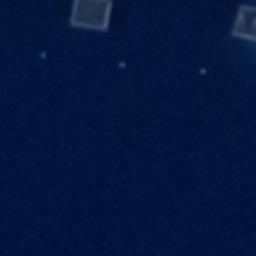square_cover: (67, 1, 120, 36), (227, 2, 256, 42)
